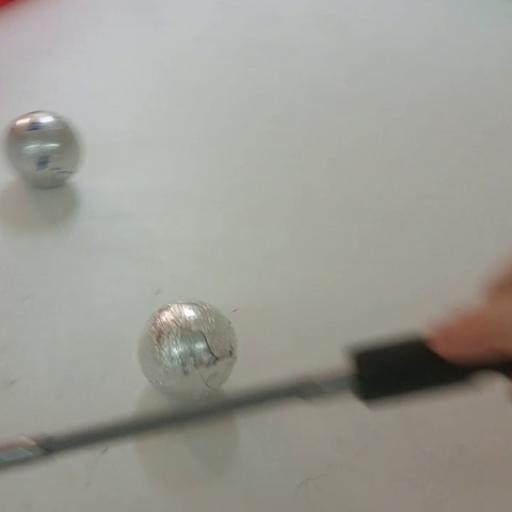alive: (135, 298, 241, 398), (4, 109, 84, 190)
